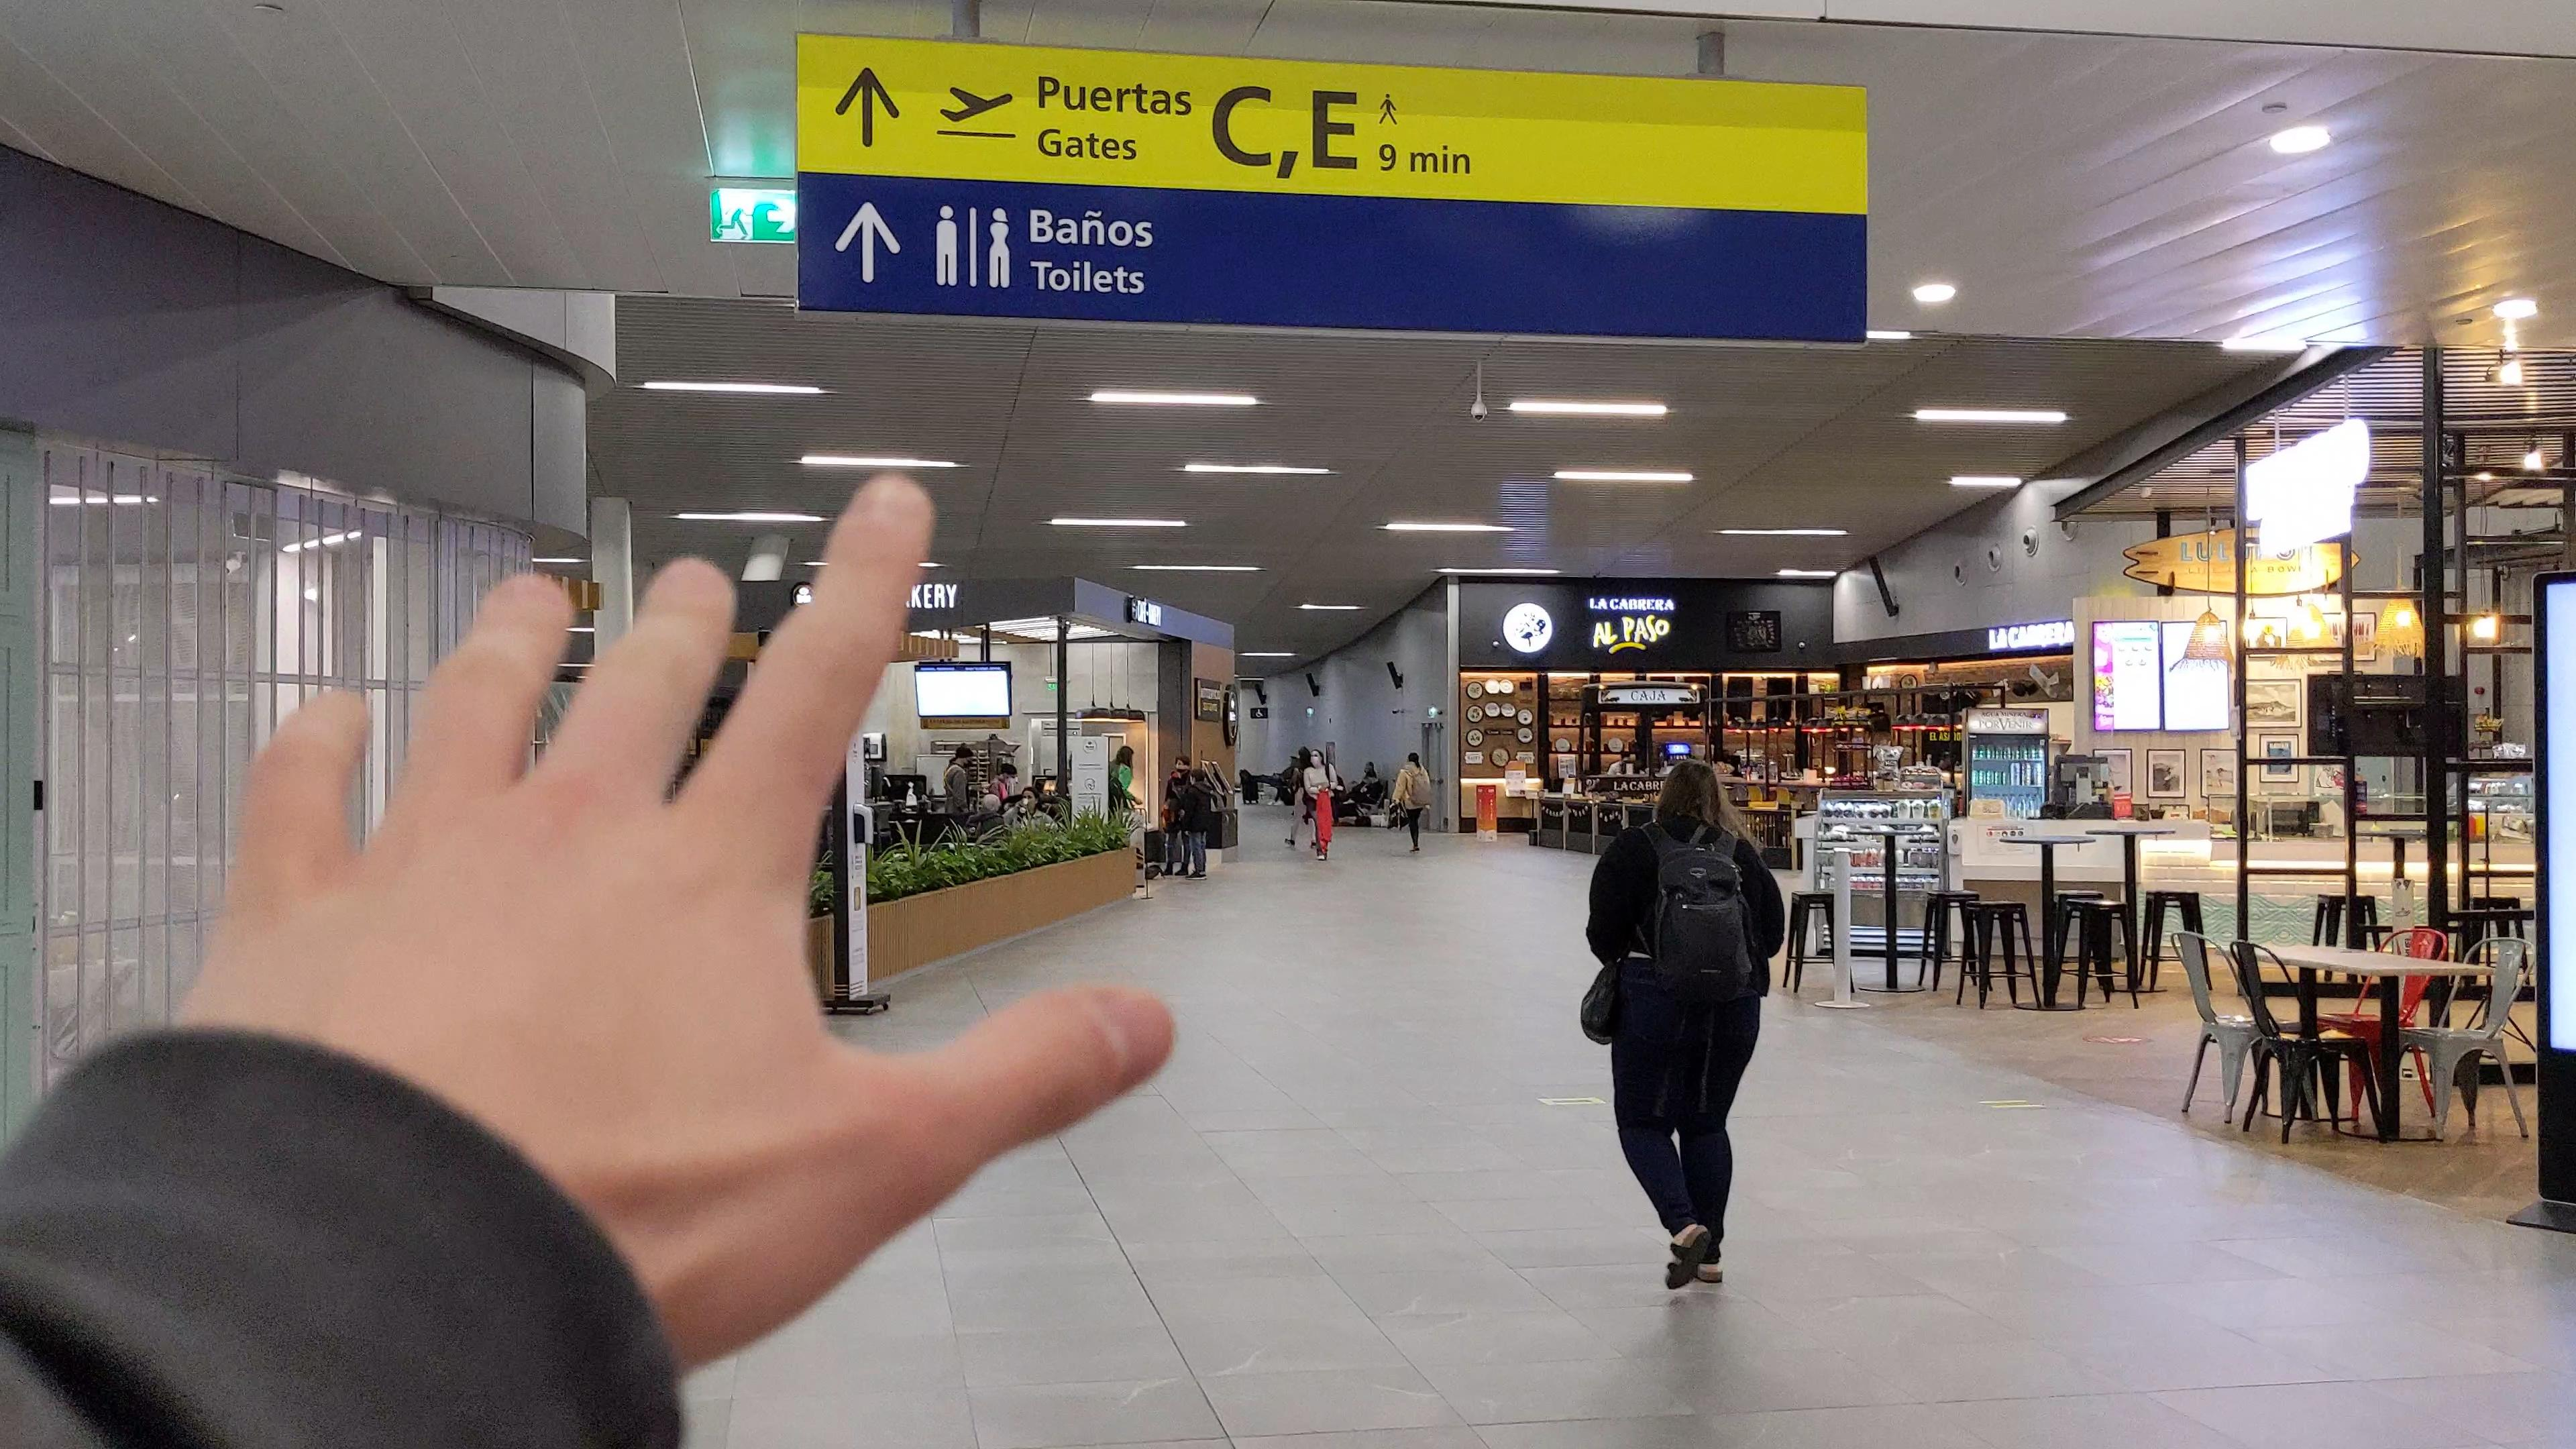airplane symbol: (934, 83, 1016, 127)
bathrooms: (932, 203, 1019, 292)
emergency exit: (717, 203, 757, 241)
emergency right arrow: (764, 198, 796, 234)
thin up arrow: (832, 64, 902, 150), (833, 198, 902, 285)
